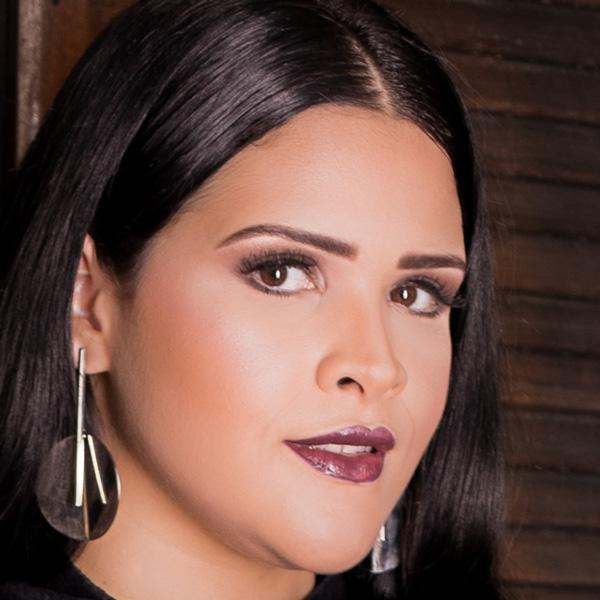Eyes: (231, 242, 327, 308), (376, 268, 451, 322)
